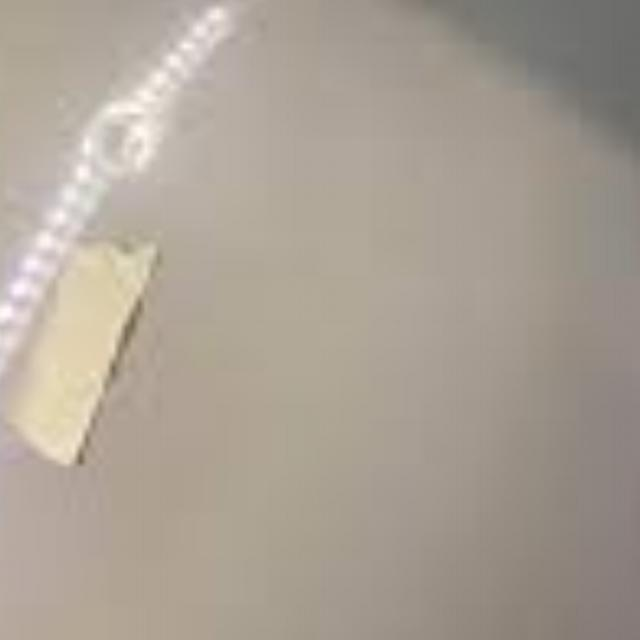dents: (58, 106, 202, 191)
